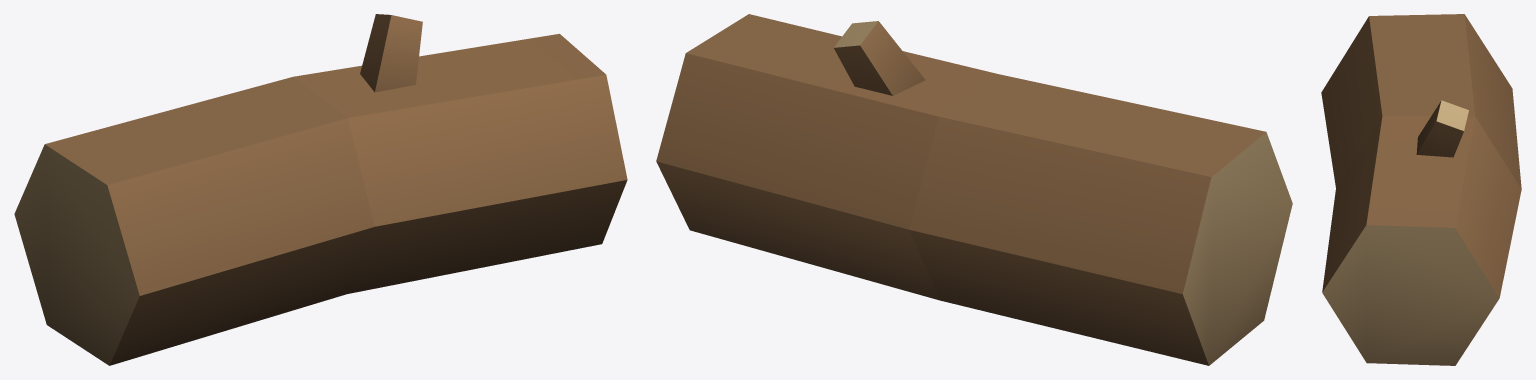
Rendered from drop-wood.glb.
3 views of the same model, side by side, from view 1: azimuth 30°, elevation 25°; view 2: azimuth 150°, elevation 25°; view 3: azimuth 270°, elevation 25° (orthographic). The views are drawn at different scales.
Parts seen in each view (by area): view 1: 0_wood; view 2: 0_wood; view 3: 0_wood.
Boxes of the visible parts, x1,y1,x2,y2 form: 0_wood: (14,14,627,365); 0_wood: (656,14,1292,365); 0_wood: (1321,14,1521,365).
Size of the model in its own units: 0.8191 by 0.3662 by 0.335.
